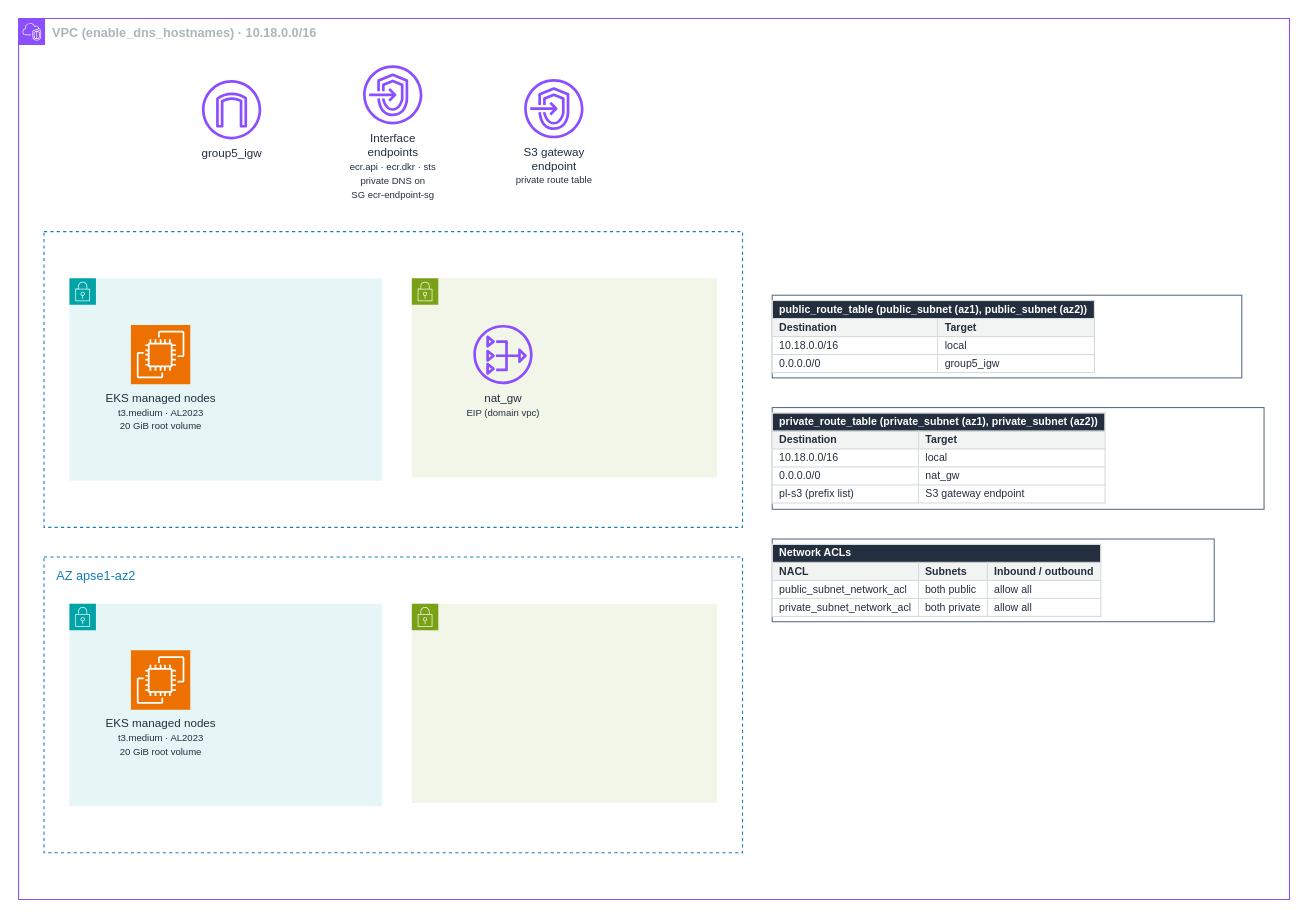
The diagram is 1308 pixels wide and 918 high, and some of its shapes have lost their labels. The shapes that lost their labels are listed below. From the top down, each one's box as (x1, y1, x2, y2) in pixels, then its label:
(68, 277, 382, 481): private_subnet (az1) · 10.18.2.0/24
(43, 231, 743, 527): AZ apse1-az1
(411, 277, 717, 478): public_subnet (az1) · 10.18.0.0/24
(68, 603, 382, 806): private_subnet (az2) · 10.18.3.0/24
(411, 603, 717, 803): public_subnet (az2) · 10.18.1.0/24
